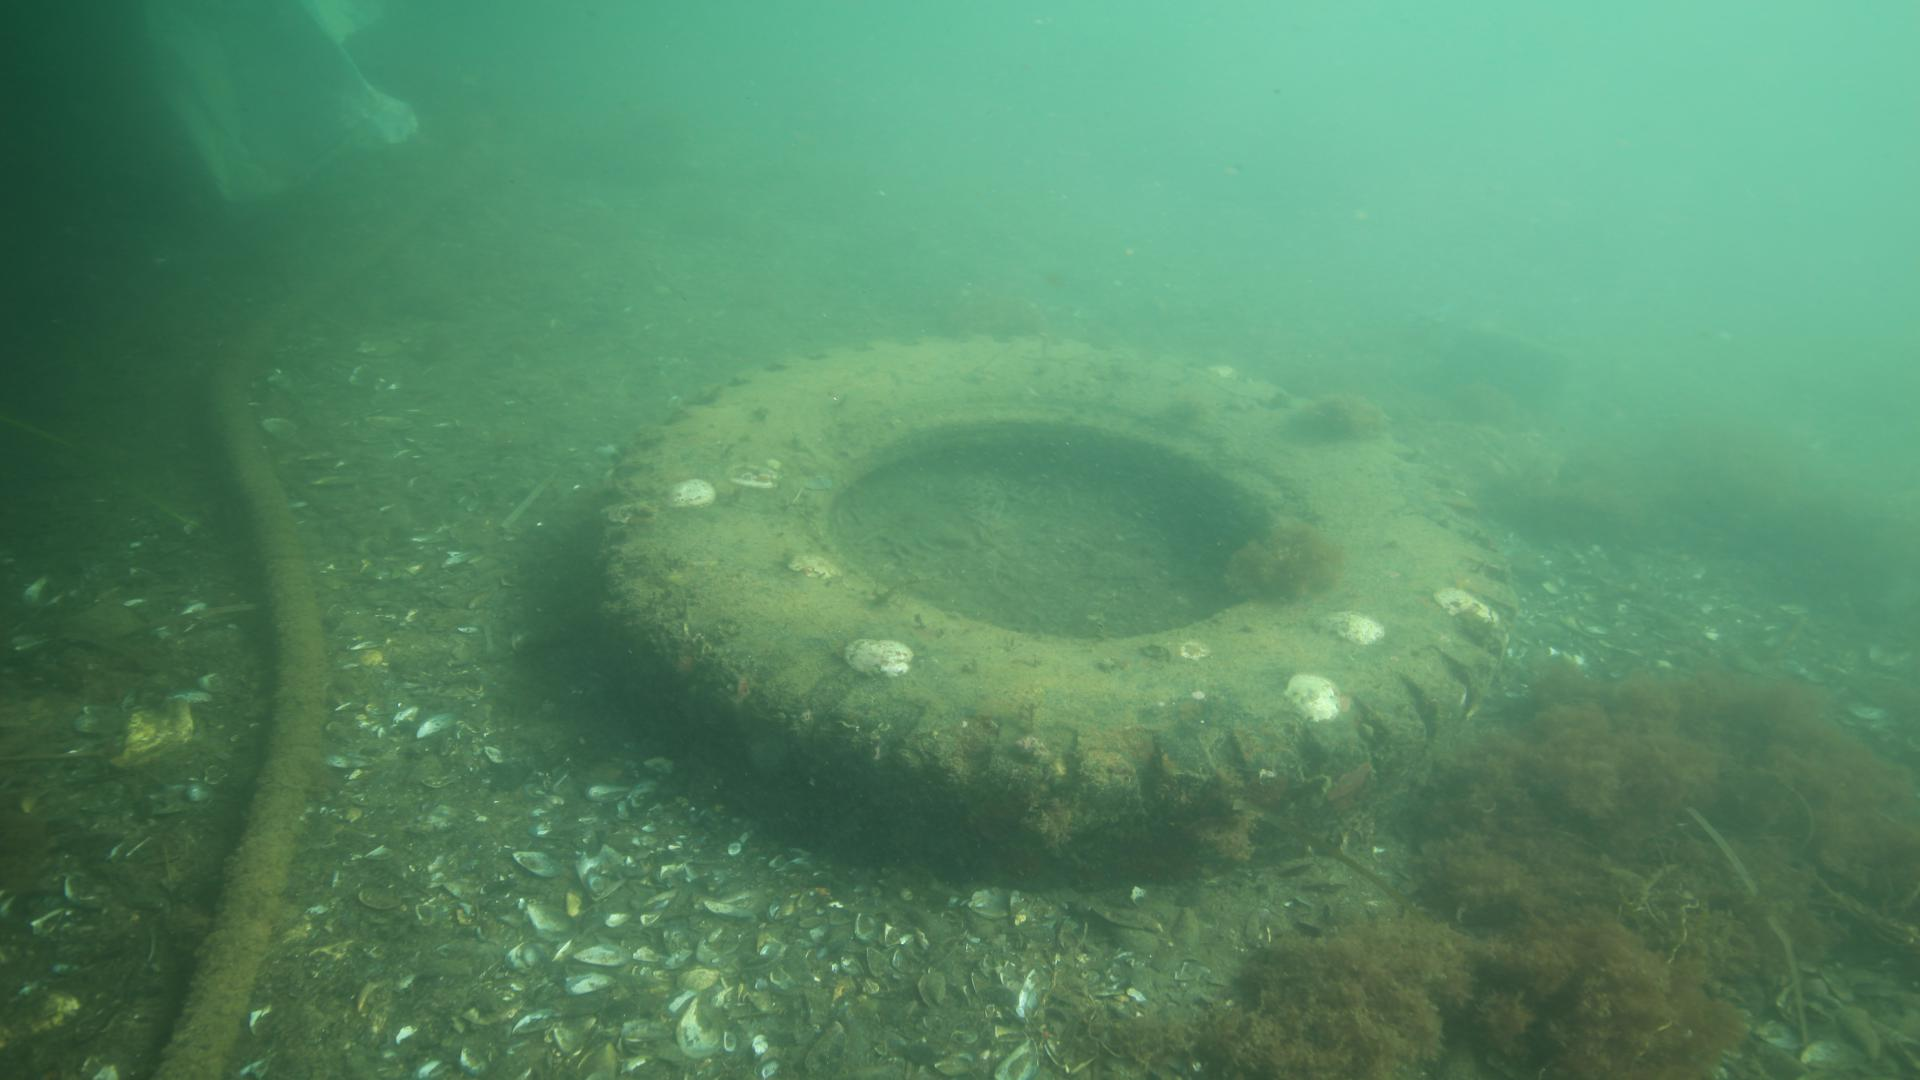rope: (154, 380, 335, 1075)
tire: (592, 335, 1516, 886)
